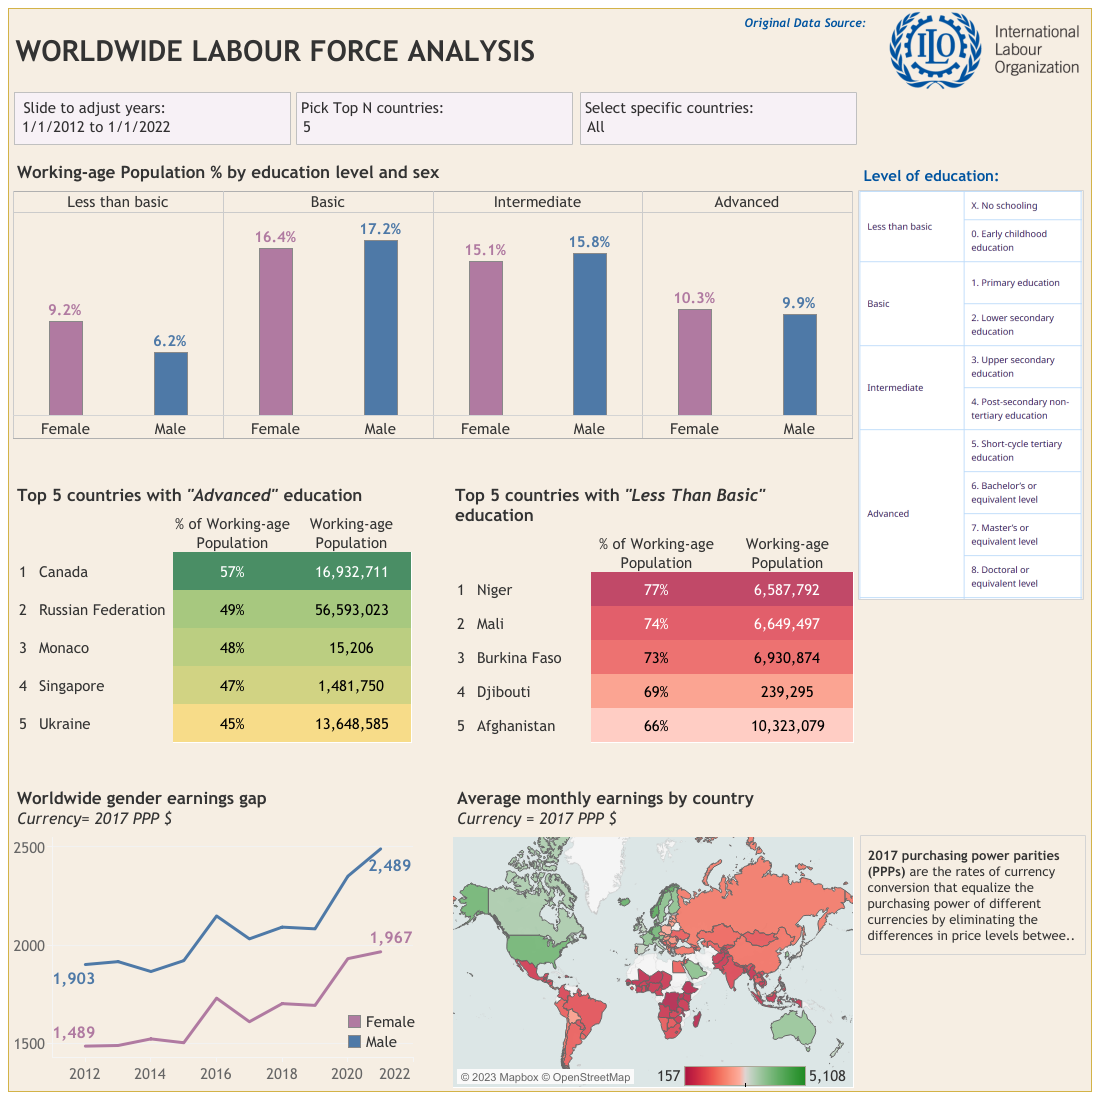

The page's visual inventory and layout, read from the dashboard file:
{"tool":"tableau","page":{"name":"Dashboard 1","canvas":[1100,1100],"ordinal":0},"visuals":[{"type":"text","box":[742,8,142,29]},{"type":"title","box":[9,9,1082,82]},{"type":"image","param":"Image/ILO-Labour_Organization_International logo.png","box":[879,10,210,80]},{"type":"blank","box":[9,91,1082,61]},{"type":"filter","title":"ww education level - 2012-22","param":"[federated.0oq8xtv01kqt6f123ig9t077w9z7].[none:time:qk]","box":[14,92,277,53]},{"type":"parameter","param":"[Parameters].[Parameter 1]","box":[296,92,277,53]},{"type":"filter","title":"ww education level - 2012-22","param":"[federated.0oq8xtv01kqt6f123ig9t077w9z7].[none:Country:nk]","box":[580,92,277,53]},{"type":"worksheet","title":"ww education level - 2012-22","mark":"Bar","rows":["Population"],"cols":["Education level (copy)_414612652575952896","sex"],"box":[9,152,848,291]},{"type":"blank","box":[857,152,234,682]},{"type":"text","box":[861,161,142,29]},{"type":"image","param":"Image/education grading logo.png","box":[858,190,226,410]},{"type":"blank","box":[9,443,848,32]},{"type":"worksheet","title":"Top 5 countries Advanced edu level","mark":"Square","rows":["Calculation_414612652601413634","Country_full"],"box":[9,475,406,270.7]},{"type":"blank","box":[415,475,32,270.7]},{"type":"worksheet","title":"Top 5 countries LTB edu level","mark":"Square","rows":["Country_full"],"box":[447,475,410,270.7]},{"type":"blank","box":[9,745.7,848,31.9]},{"type":"worksheet","title":"Avg earning by sex (2)","mark":"Automatic","rows":["Currency Value (fixed on country) (copy)_778278322921668608"],"cols":["time"],"box":[9,777.7,408,313.3]},{"type":"blank","box":[417,777.7,32,313.3]},{"type":"worksheet","title":"Avg earning by country","mark":"Automatic","box":[449,777.7,408,313.3]},{"type":"text","box":[860,835,226,120]},{"type":"legend","title":"ww education level - 2012-22","param":"[federated.0oq8xtv01kqt6f123ig9t077w9z7].[none:sex:nk]","box":[344,1011,77,46]},{"type":"legend","title":"Avg earning by country","param":"[federated.0oq8xtv01kqt6f123ig9t077w9z7].[avg:Currency Value (copy)_204660456782","box":[653,1062,198,28]}]}

Visuals, with their boxes in screenshot pixels (x1, y1, x2, y2), scaled from the page's 1100x1100 canvas onto the 1099x1099 screenshot:
text: <box>741,8,883,37</box>
title: <box>9,9,1090,91</box>
image: <box>878,10,1088,90</box>
blank: <box>9,91,1090,152</box>
"ww education level - 2012-22" filter: <box>14,92,291,145</box>
parameter: <box>296,92,572,145</box>
"ww education level - 2012-22" filter: <box>579,92,856,145</box>
"ww education level - 2012-22" worksheet (Bar marks): <box>9,152,856,443</box>
blank: <box>856,152,1090,833</box>
text: <box>860,161,1002,190</box>
image: <box>857,190,1083,599</box>
blank: <box>9,443,856,475</box>
"Top 5 countries Advanced edu level" worksheet (Square marks): <box>9,475,415,745</box>
blank: <box>415,475,447,745</box>
"Top 5 countries LTB edu level" worksheet (Square marks): <box>447,475,856,745</box>
blank: <box>9,745,856,777</box>
"Avg earning by sex (2)" worksheet: <box>9,777,417,1090</box>
blank: <box>417,777,449,1090</box>
"Avg earning by country" worksheet: <box>449,777,856,1090</box>
text: <box>859,834,1085,954</box>
"ww education level - 2012-22" legend: <box>344,1010,421,1056</box>
"Avg earning by country" legend: <box>652,1061,850,1089</box>
